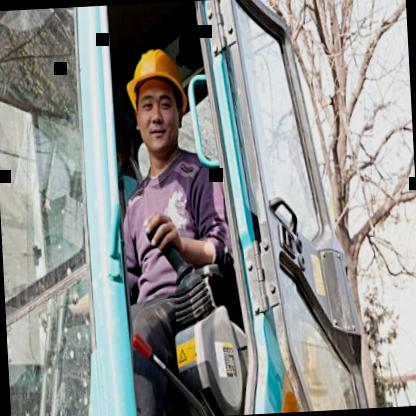helmet: (120, 33, 191, 161)
